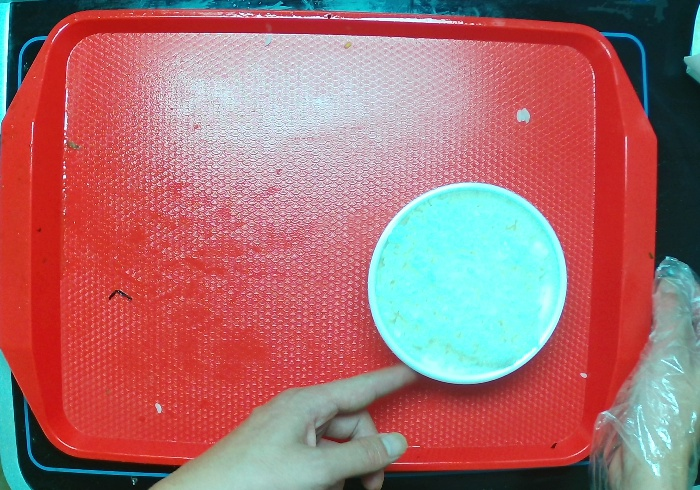YKMZ-Fan_Wan: (365, 180, 569, 385)
